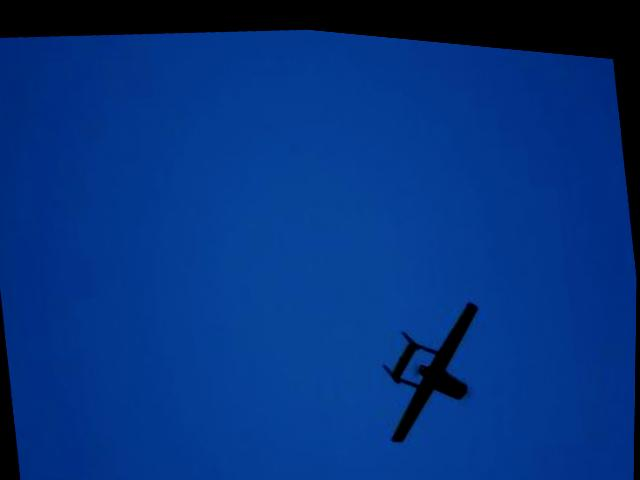uav: (372, 277, 501, 446)
